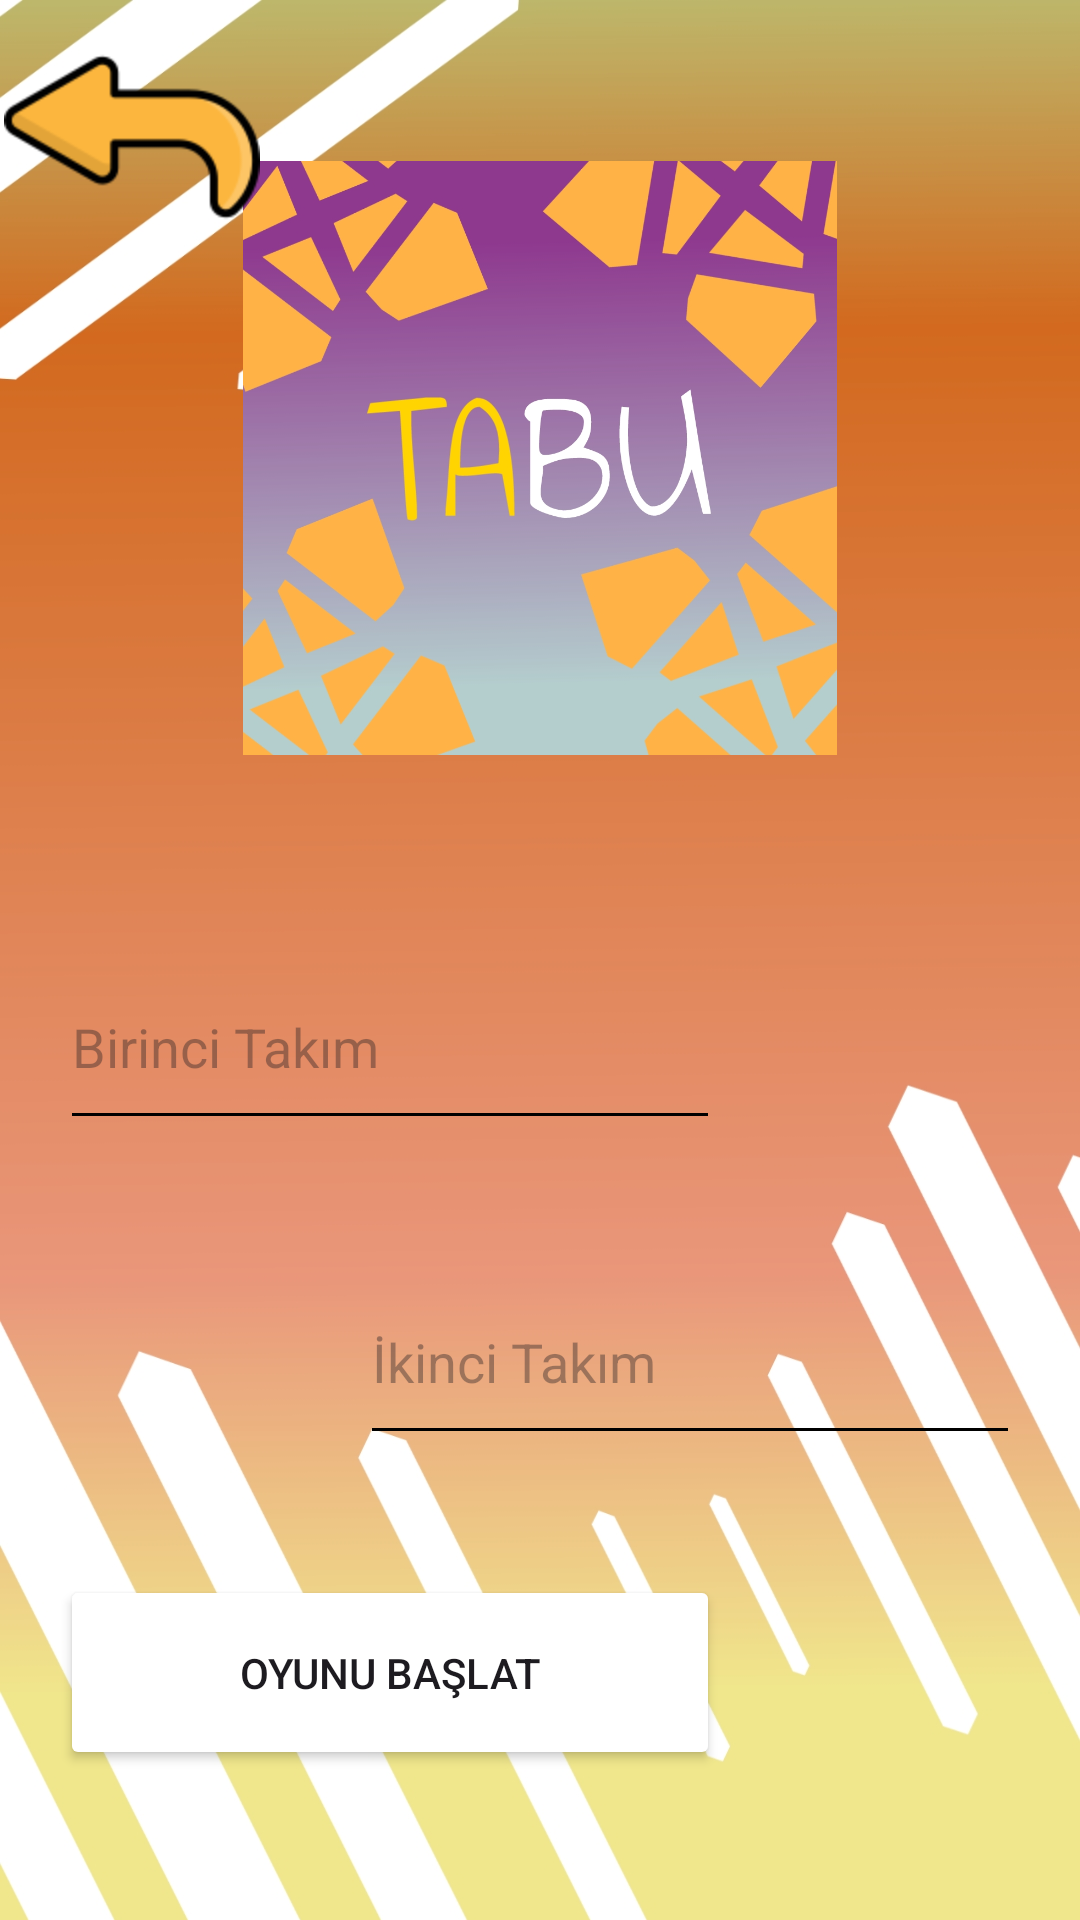

Where to tap for icons on this 1080 × 1920 app screen, as point (x, y):
reply: point (132, 137)
